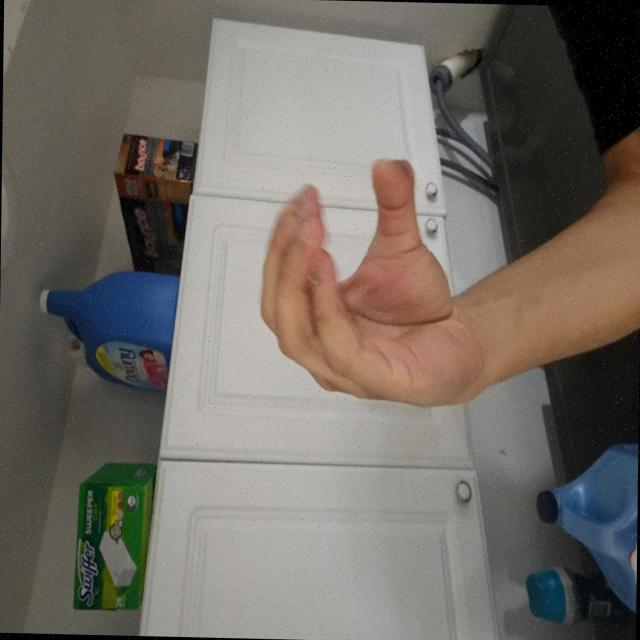C: (163, 339, 371, 636)
